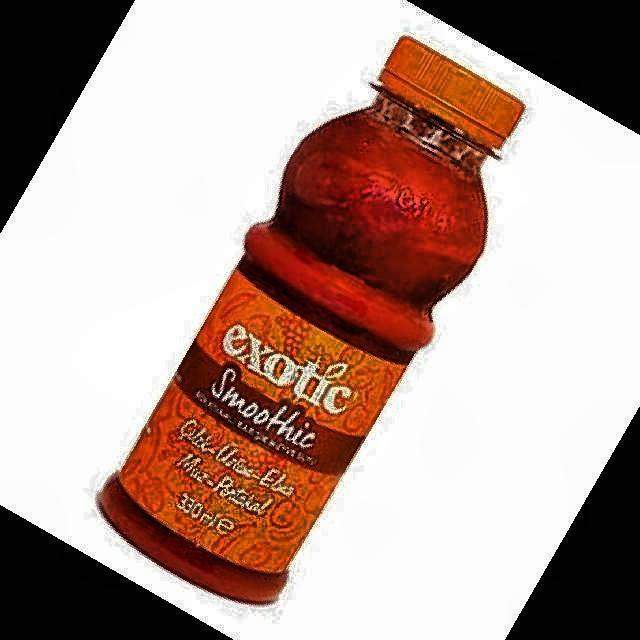plastic: (99, 38, 524, 602)
